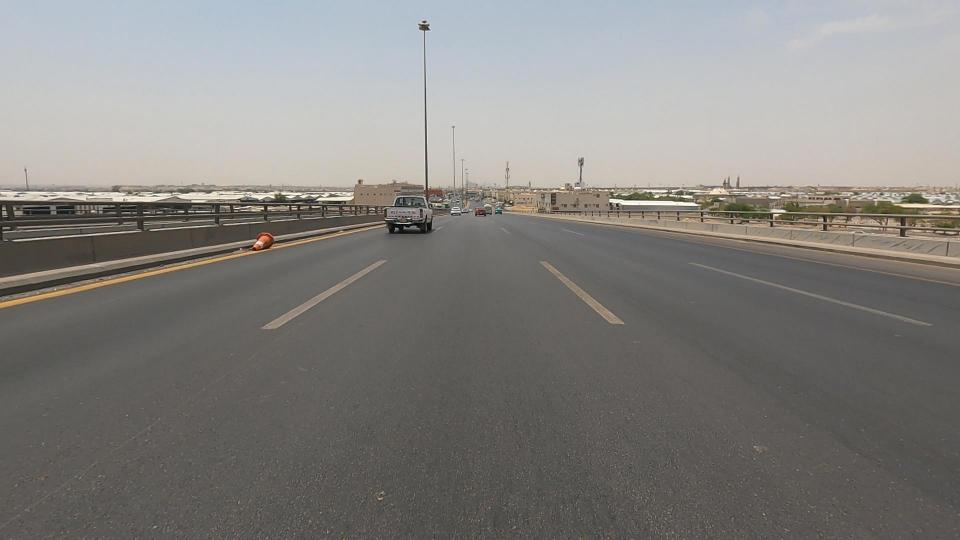BROKEN_SIGNAGE: (221, 200, 301, 286)
